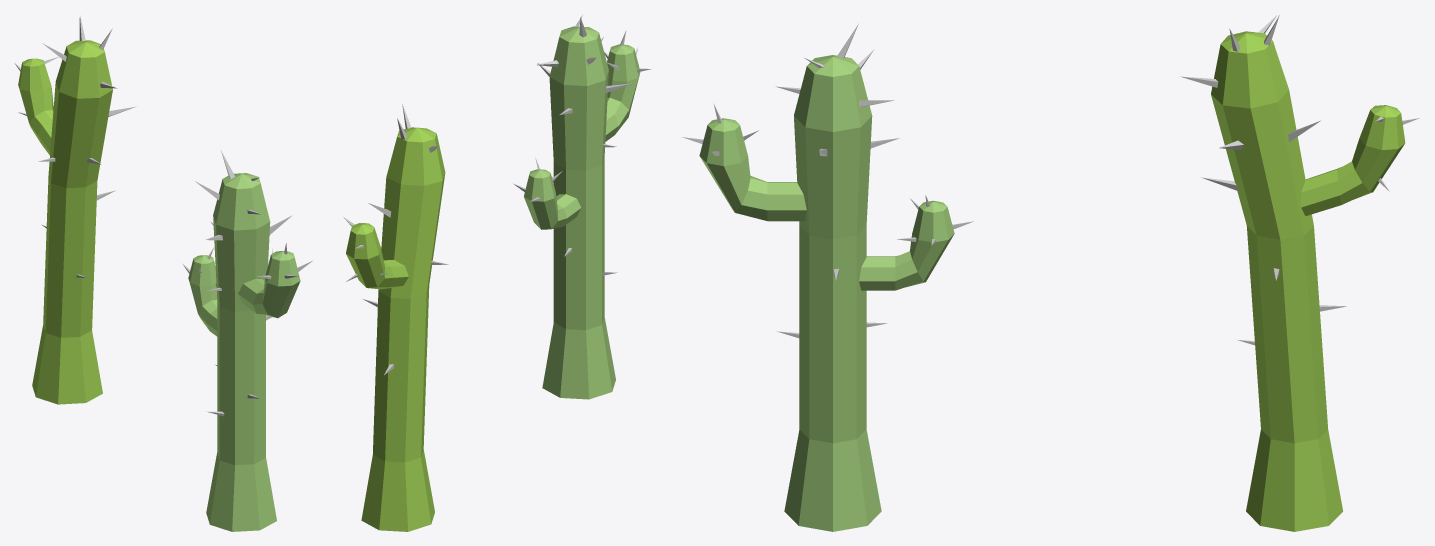
The model's file is cactusblend.fbx.
The picture shows the model from 3 angles, left to right: view 1: azimuth 30°, elevation 25°; view 2: azimuth 150°, elevation 25°; view 3: azimuth 270°, elevation 25°; orthographic projection. The views are drawn at different scales.
Visible parts, largest first — view 1: cactus1, cactus2; view 2: cactus1, cactus2; view 3: cactus1, cactus2.
Boxes of the visible parts, bbox=[...] form: cactus1: bbox=[183, 150, 312, 531]; cactus2: bbox=[14, 15, 136, 404]; cactus1: bbox=[513, 14, 651, 399]; cactus2: bbox=[343, 104, 448, 531]; cactus1: bbox=[682, 23, 973, 531]; cactus2: bbox=[1180, 15, 1419, 531].
Bounding box in the file's own units: 155 × 609 × 815.
